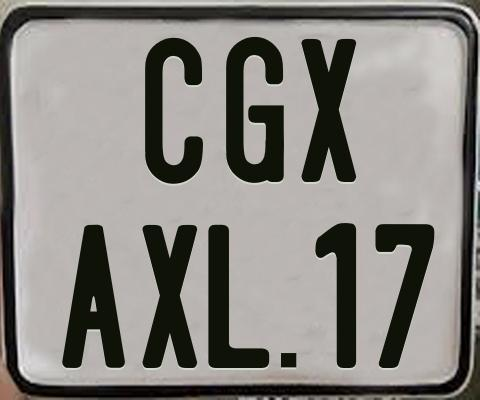1: (314, 221, 355, 371)
7: (375, 224, 441, 374)
A: (61, 222, 125, 371)
C: (143, 36, 203, 187)
G: (225, 37, 284, 183)
L: (205, 224, 272, 369)
X: (300, 36, 360, 181), (141, 222, 199, 365)
